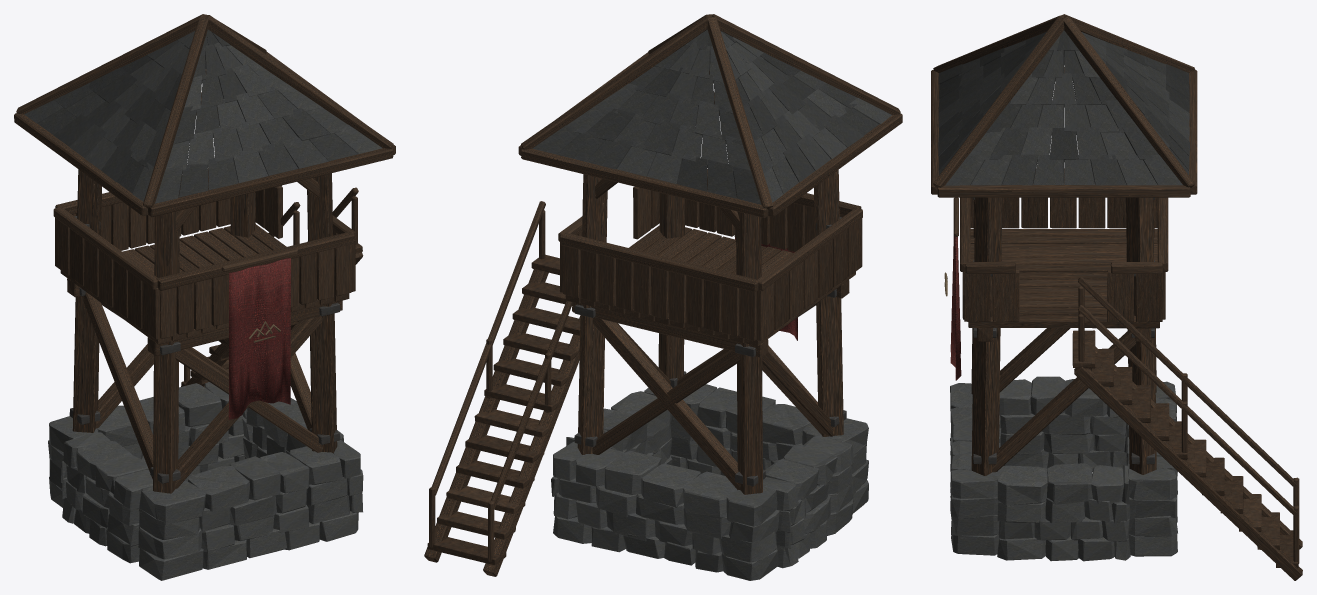
The model's file is barrosan_guard_tower_lod1.glb.
3 renders of one model, left to right at view 1: azimuth 30°, elevation 25°; view 2: azimuth 150°, elevation 25°; view 3: azimuth 270°, elevation 25°, orthographic. The views are drawn at different scales.
Visible parts, largest first — view 1: barrosan_guard_tower; view 2: barrosan_guard_tower; view 3: barrosan_guard_tower.
Part boxes in pixels (x1=…): barrosan_guard_tower: x1=14, y1=14, x2=395, y2=580; barrosan_guard_tower: x1=424, y1=14, x2=902, y2=580; barrosan_guard_tower: x1=931, y1=14, x2=1302, y2=580.
Bounding box in the file's own units: 4.39 × 7.21 × 4.93.
Materials: 5 (4 with a texture image).
